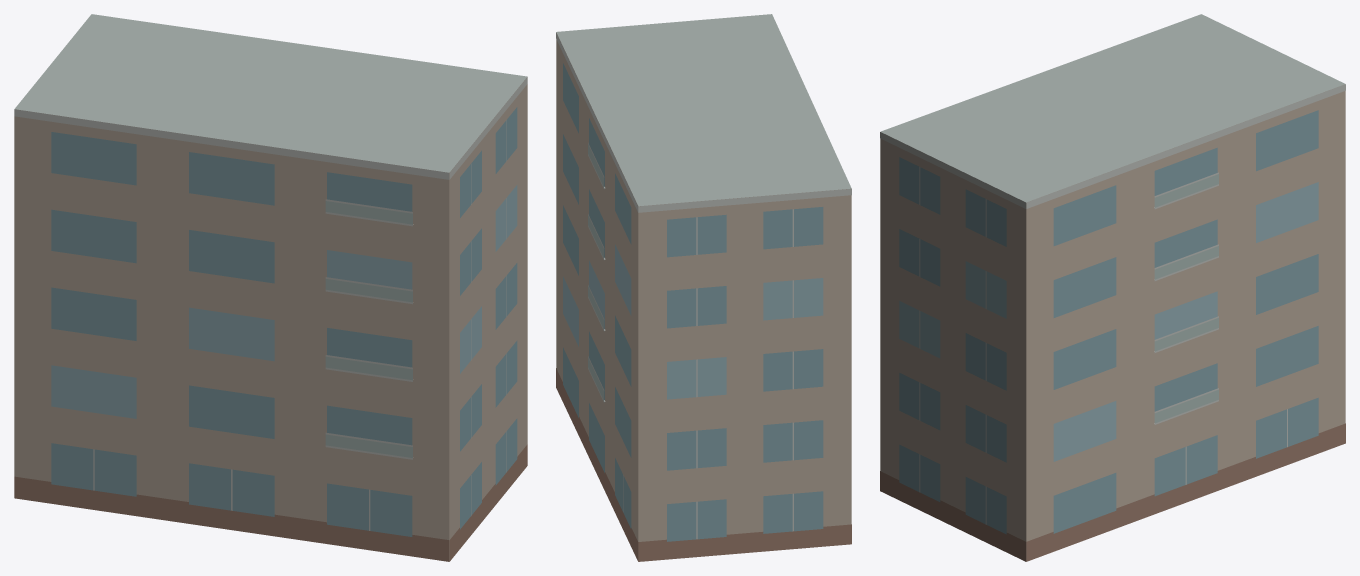
File: survey-upis-32885908.glb
3 views of the same model, side by side, from view 1: azimuth 30°, elevation 25°; view 2: azimuth 150°, elevation 25°; view 3: azimuth 270°, elevation 25° (orthographic). The views are drawn at different scales.
Visible parts, largest first — view 1: survey-upis-32885908.tmp; view 2: survey-upis-32885908.tmp; view 3: survey-upis-32885908.tmp.
Part boxes in pixels (x1,y1,x2,y2): survey-upis-32885908.tmp: [14, 14, 527, 561]; survey-upis-32885908.tmp: [556, 14, 851, 561]; survey-upis-32885908.tmp: [880, 14, 1345, 561].
Size of the model in its own units: 14.86 by 13.2 by 15.51.
